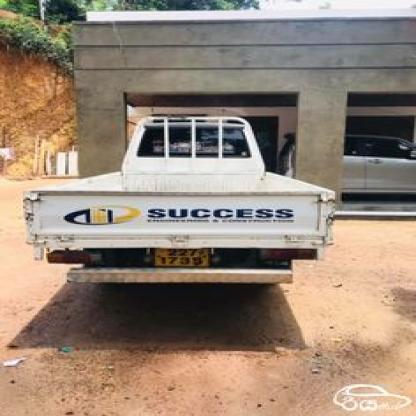Lorry back: (15, 110, 345, 301)
number plate: (150, 245, 214, 270)
